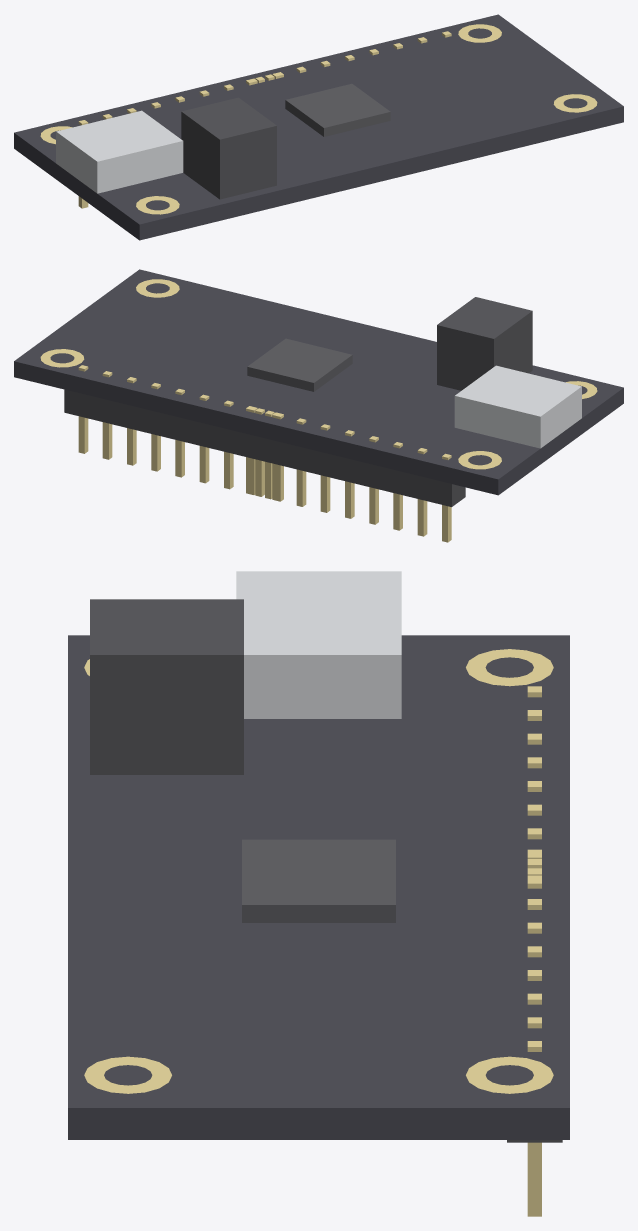
File: feather-rp2040.glb
3 views of the same model, one above another, from view 1: azimuth 30°, elevation 25°; view 2: azimuth 150°, elevation 25°; view 3: azimuth 270°, elevation 25° (orthographic). The views are drawn at different scales.
Parts seen in each view (by area): view 1: feather-rp2040-pcb, feather-rp2040-plastic, feather-rp2040-metal, feather-rp2040-ic, feather-rp2040-mounting-pads, feather-rp2040-pins; view 2: feather-rp2040-pcb, feather-rp2040-plastic, feather-rp2040-pins, feather-rp2040-metal, feather-rp2040-ic, feather-rp2040-mounting-pads; view 3: feather-rp2040-pcb, feather-rp2040-plastic, feather-rp2040-metal, feather-rp2040-ic, feather-rp2040-mounting-pads, feather-rp2040-pins.
Part boxes in pixels (x1=…): feather-rp2040-pcb: x1=14, y1=14, x2=623, y2=240; feather-rp2040-plastic: x1=181, y1=97, x2=276, y2=199; feather-rp2040-metal: x1=56, y1=110, x2=183, y2=193; feather-rp2040-ic: x1=285, y1=83, x2=390, y2=136; feather-rp2040-mounting-pads: x1=40, y1=24, x2=597, y2=214; feather-rp2040-pins: x1=78, y1=31, x2=451, y2=208; feather-rp2040-pcb: x1=14, y1=269, x2=623, y2=495; feather-rp2040-plastic: x1=64, y1=297, x2=532, y2=506; feather-rp2040-pins: x1=78, y1=365, x2=451, y2=542; feather-rp2040-metal: x1=454, y1=365, x2=581, y2=448; feather-rp2040-ic: x1=247, y1=338, x2=352, y2=391; feather-rp2040-mounting-pads: x1=40, y1=279, x2=597, y2=469; feather-rp2040-pcb: x1=68, y1=635, x2=569, y2=1139; feather-rp2040-plastic: x1=90, y1=599, x2=562, y2=1142; feather-rp2040-metal: x1=236, y1=571, x2=401, y2=718; feather-rp2040-ic: x1=242, y1=839, x2=395, y2=922; feather-rp2040-mounting-pads: x1=84, y1=649, x2=553, y2=1093; feather-rp2040-pins: x1=527, y1=686, x2=541, y2=1216.
Bounding box in the file's own units: 0.0508 × 0.0143 × 0.0228.
